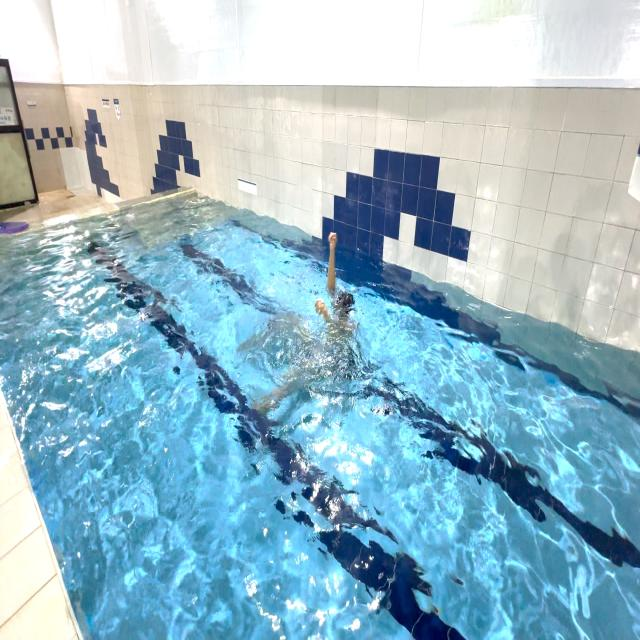Drowning: (242, 232, 356, 414)
